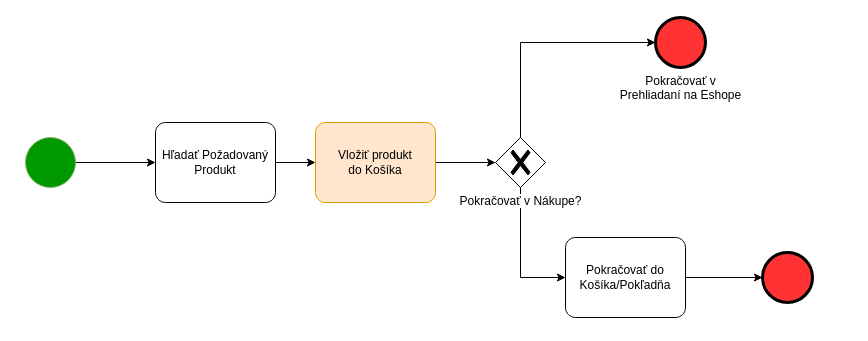
The diagram is 868 pixels wide and 341 high, and some of its shapes have lost their labels. Here are the shapes that lost their labels. From the top down, the centre of each, then its label:
(50,162): Prihlásiť do eshopu XYZ
(787,277): Objednávka Dokončená
